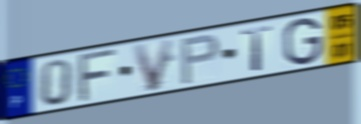0: (38, 58, 75, 107)
F: (77, 46, 120, 105)
G: (282, 16, 325, 67)
P: (179, 32, 222, 87)
T: (240, 23, 275, 73)
V: (131, 36, 177, 94)
